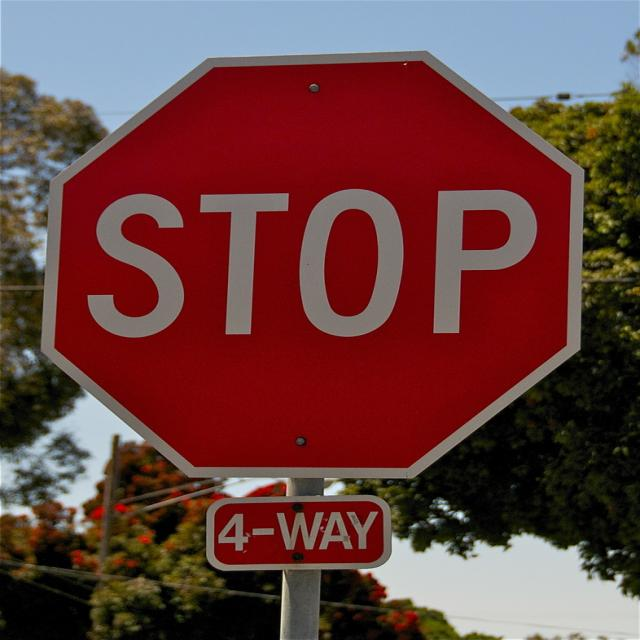Stop-sign: (38, 47, 580, 473)
